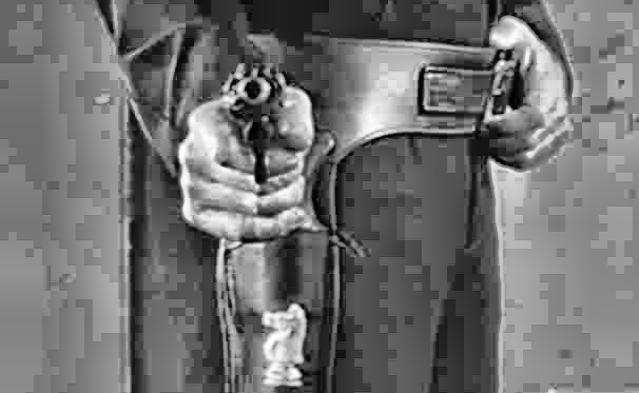pistol: (226, 61, 290, 189)
